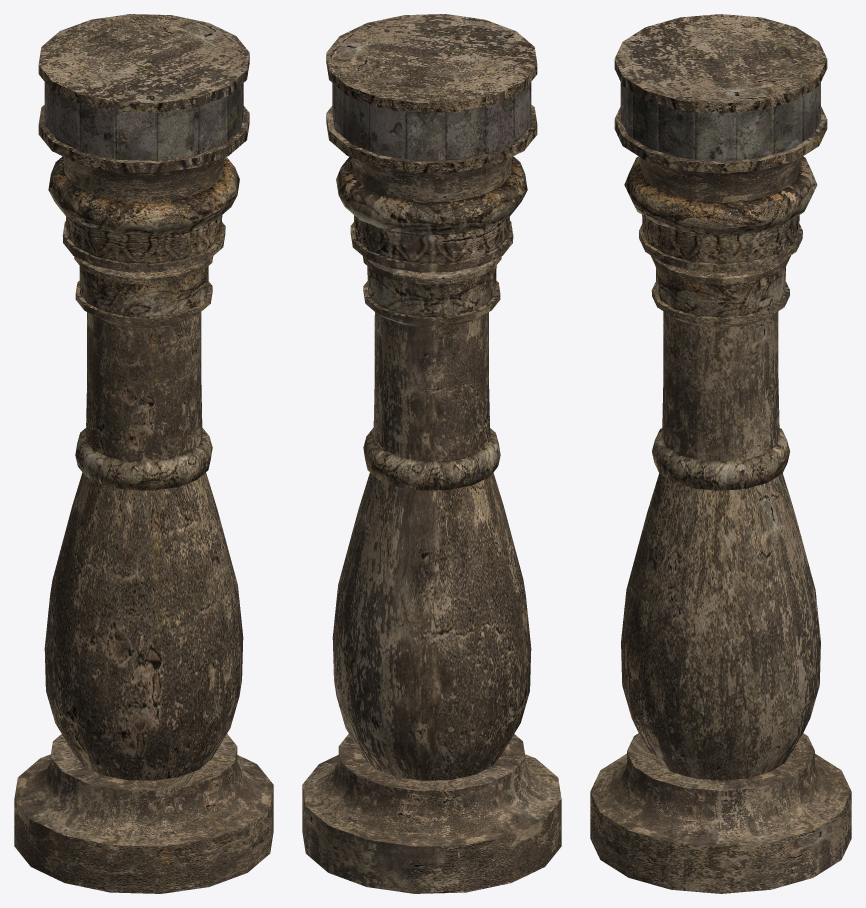
File: materials_5_pillar_short_16.fbx
3 views of the same model, side by side, from view 1: azimuth 30°, elevation 25°; view 2: azimuth 150°, elevation 25°; view 3: azimuth 270°, elevation 25° (orthographic).
Visible parts, largest first — view 1: materials_5_pillar_short_16; view 2: materials_5_pillar_short_16; view 3: materials_5_pillar_short_16.
Part boxes in pixels (x1,y1,x2,y2): materials_5_pillar_short_16: (14, 14, 273, 893); materials_5_pillar_short_16: (302, 14, 561, 893); materials_5_pillar_short_16: (590, 14, 851, 893).
Bounding box in the file's own units: 43.27 × 143 × 43.27.
